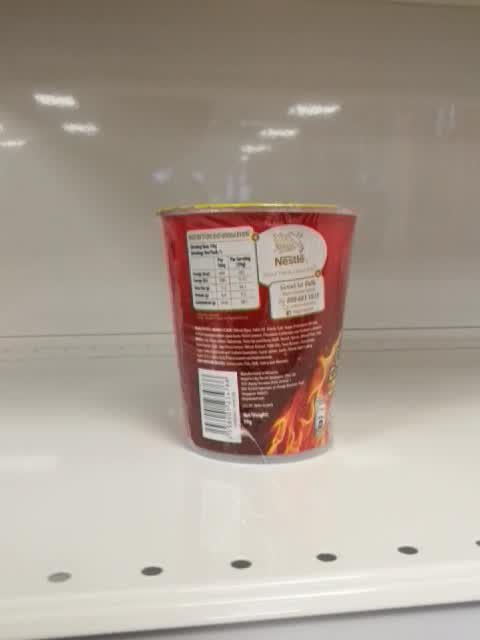maggi: (156, 201, 358, 466)
